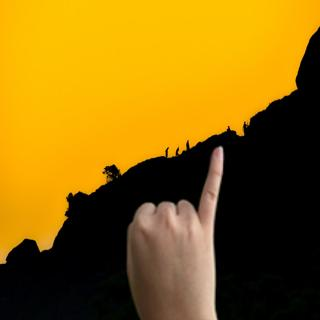Fine: (113, 140, 236, 317)
